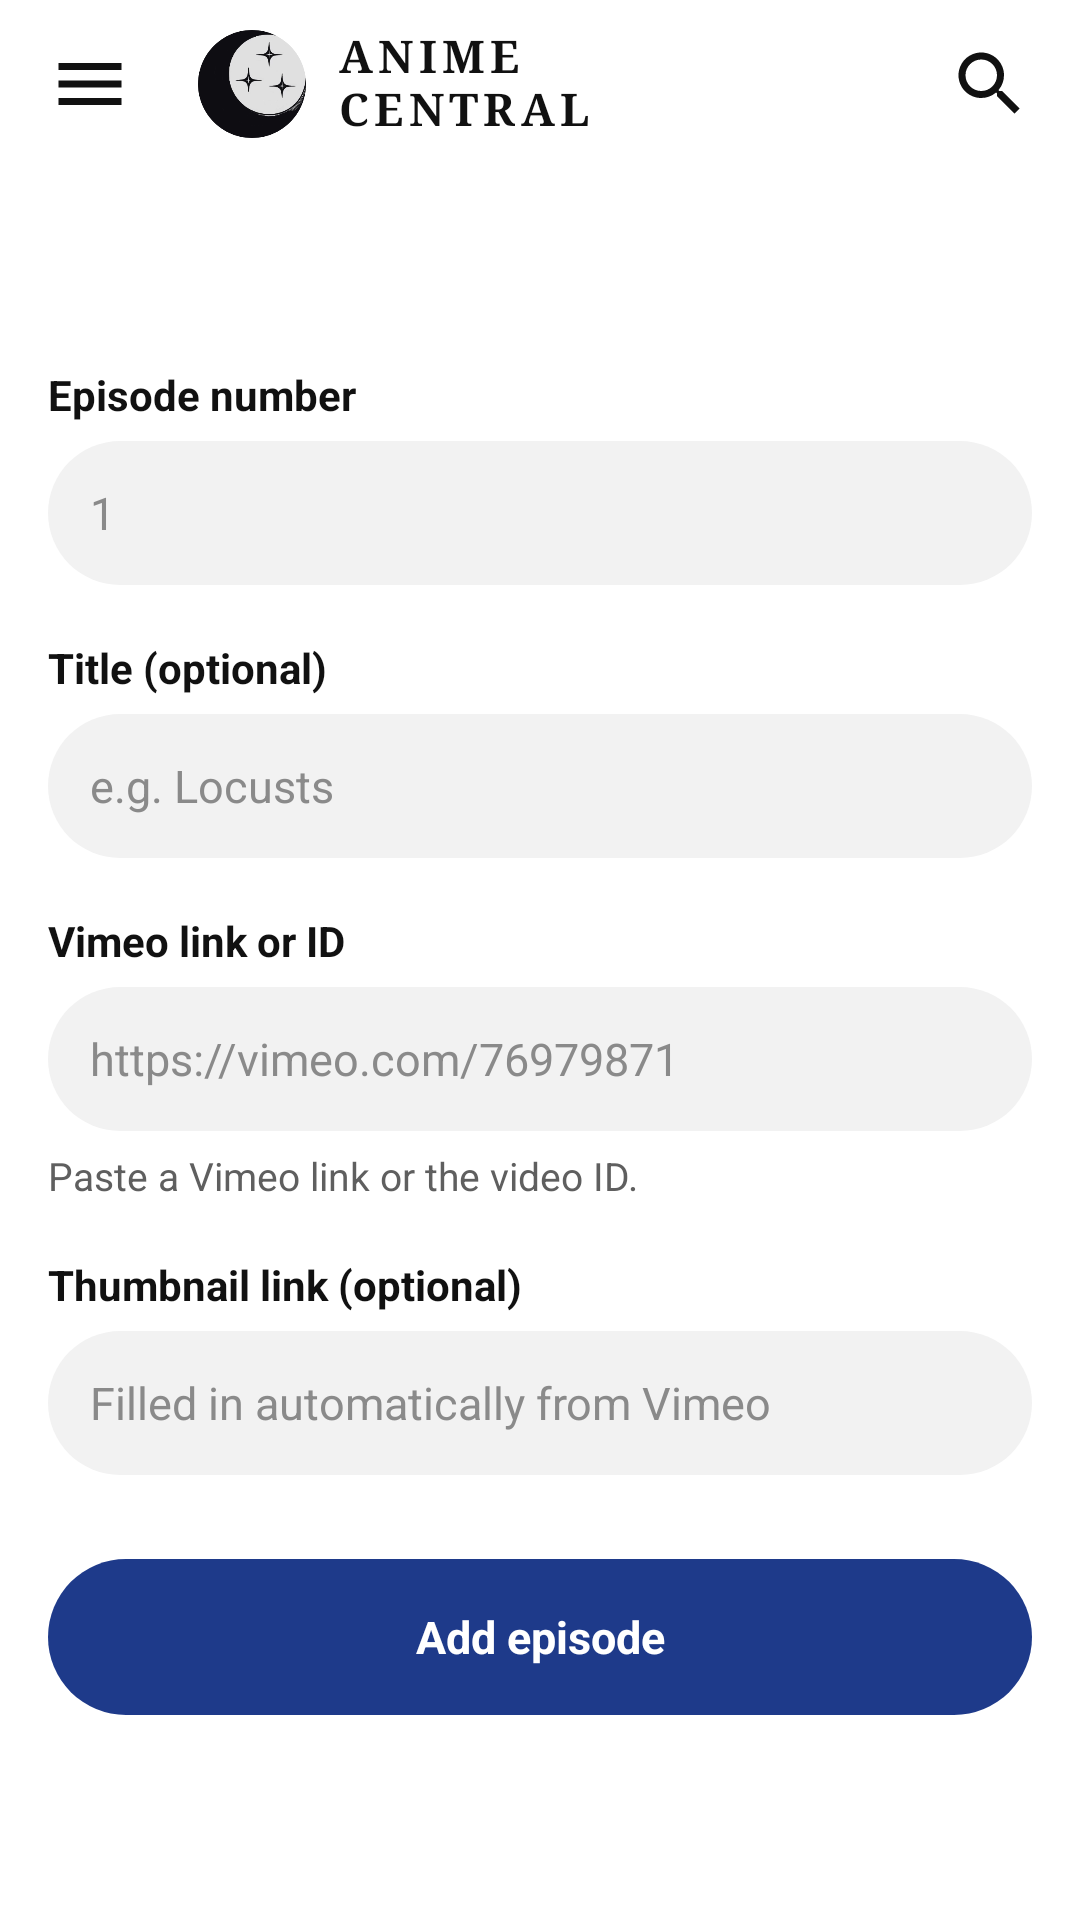

Screen size 1080 x 1920. Icon name, then its center in pixels as [x,y]:
Menu: [90,84]
Search: [989,83]
